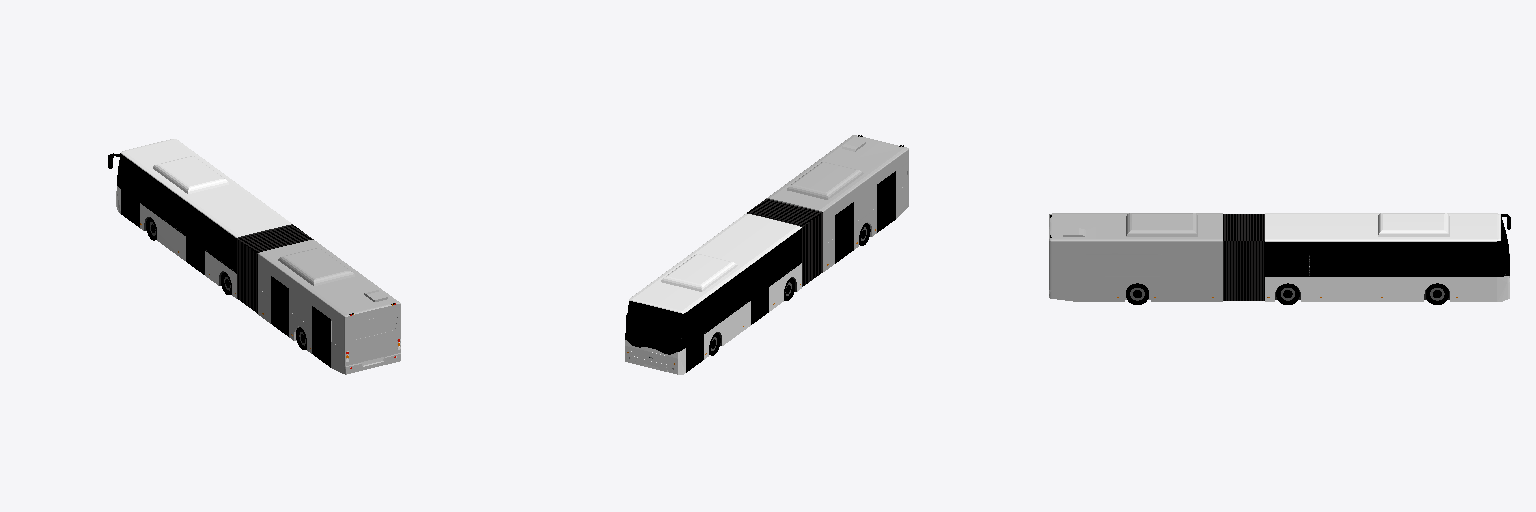
3 views of the same model, side by side, from view 1: azimuth 30°, elevation 25°; view 2: azimuth 150°, elevation 25°; view 3: azimuth 270°, elevation 25° (orthographic).
Parts seen in each view (by area): view 1: Chassis, Chassis.001, Gangway, Glass, Glass.001, Doors.Glass, Doors.Glass.001; view 2: Chassis, Chassis.001, Glass, Gangway, Doors.Glass.001, Doors.Glass, Glass.001; view 3: Chassis, Chassis.001, Glass, Gangway, Glass.001.
Boxes of the visible parts, box(x1,y1,x2,y2) form: Chassis: box(116, 139, 292, 298); Chassis.001: box(258, 240, 400, 374); Gangway: box(237, 225, 313, 313); Glass: box(118, 165, 235, 271); Glass.001: box(259, 268, 379, 347); Doors.Glass: box(122, 169, 203, 272); Doors.Glass.001: box(271, 278, 329, 364); Chassis: box(625, 213, 801, 374); Chassis.001: box(766, 135, 908, 271); Glass: box(627, 242, 800, 353); Gangway: box(747, 199, 822, 286); Doors.Glass.001: box(836, 174, 894, 260); Doors.Glass: box(687, 267, 767, 369); Glass.001: box(824, 163, 907, 244); Chassis: box(1265, 213, 1509, 301); Chassis.001: box(1049, 213, 1222, 301); Glass: box(1266, 227, 1509, 275); Gangway: box(1223, 214, 1264, 300); Glass.001: box(1083, 255, 1220, 275).
Size of the model in its own units: 3.04 by 3.05 by 18.1.
6 materials, 4 textured.